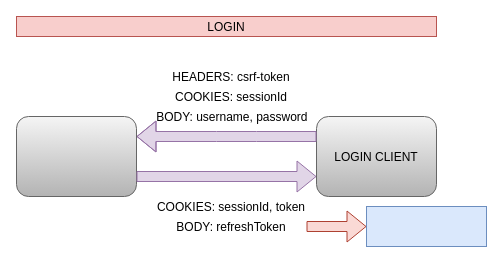
This 503x263 diagram has some shape labels left out. The centre of each missing label's shape, as x and y in pixels:
Local storage: the point at 426,226
SERVER: the point at 76,156
